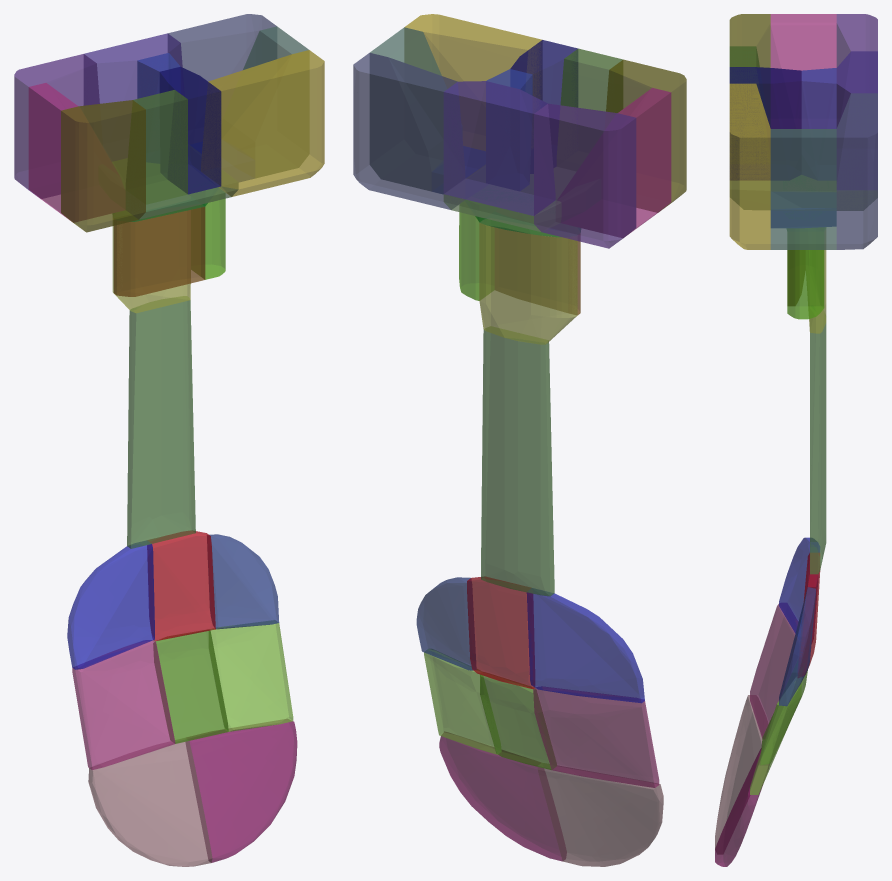
File: holder_spoon_flat.obj
3 renders of one model, left to right at view 1: azimuth 30°, elevation 25°; view 2: azimuth 150°, elevation 25°; view 3: azimuth 270°, elevation 25°, orthographic. The views are drawn at different scales.
Parts seen in each view (by area): view 1: Shape_IndexedFaceSet_Shape_IndexedFaceSet.065, Shape_IndexedFaceSet.008_Shape_IndexedFaceSet.073, Shape_IndexedFaceSet.002_Shape_IndexedFaceSet.067, Shape_IndexedFaceSet.003_Shape_IndexedFaceSet.068, Shape_IndexedFaceSet.023_Shape_IndexedFaceSet.088, Shape_IndexedFaceSet.004_Shape_IndexedFaceSet.069, Shape_IndexedFaceSet.017_Shape_IndexedFaceSet.082, Shape_IndexedFaceSet.024_Shape_IndexedFaceSet.089, Shape_IndexedFaceSet.009_Shape_IndexedFaceSet.074, Shape_IndexedFaceSet.010_Shape_IndexedFaceSet.075, Shape_IndexedFaceSet.012_Shape_IndexedFaceSet.077, Shape_IndexedFaceSet.022_Shape_IndexedFaceSet.087 (+11 smaller); view 2: Shape_IndexedFaceSet_Shape_IndexedFaceSet.065, Shape_IndexedFaceSet.022_Shape_IndexedFaceSet.087, Shape_IndexedFaceSet.010_Shape_IndexedFaceSet.075, Shape_IndexedFaceSet.019_Shape_IndexedFaceSet.084, Shape_IndexedFaceSet.005_Shape_IndexedFaceSet.070, Shape_IndexedFaceSet.017_Shape_IndexedFaceSet.082, Shape_IndexedFaceSet.024_Shape_IndexedFaceSet.089, Shape_IndexedFaceSet.004_Shape_IndexedFaceSet.069, Shape_IndexedFaceSet.002_Shape_IndexedFaceSet.067, Shape_IndexedFaceSet.009_Shape_IndexedFaceSet.074, Shape_IndexedFaceSet.008_Shape_IndexedFaceSet.073, Shape_IndexedFaceSet.003_Shape_IndexedFaceSet.068 (+12 smaller); view 3: Shape_IndexedFaceSet.017_Shape_IndexedFaceSet.082, Shape_IndexedFaceSet.024_Shape_IndexedFaceSet.089, Shape_IndexedFaceSet.007_Shape_IndexedFaceSet.072, Shape_IndexedFaceSet.008_Shape_IndexedFaceSet.073, Shape_IndexedFaceSet.022_Shape_IndexedFaceSet.087, Shape_IndexedFaceSet.019_Shape_IndexedFaceSet.084, Shape_IndexedFaceSet_Shape_IndexedFaceSet.065, Shape_IndexedFaceSet.006_Shape_IndexedFaceSet.071, Shape_IndexedFaceSet.002_Shape_IndexedFaceSet.067, Shape_IndexedFaceSet.004_Shape_IndexedFaceSet.069, Shape_IndexedFaceSet.010_Shape_IndexedFaceSet.075, Shape_IndexedFaceSet.021_Shape_IndexedFaceSet.086 (+12 smaller).
Boxes of the visible parts, left/top/right/bottom form: Shape_IndexedFaceSet_Shape_IndexedFaceSet.065: left=127, top=296, right=195, bottom=548; Shape_IndexedFaceSet.008_Shape_IndexedFaceSet.073: left=201, top=50, right=324, bottom=196; Shape_IndexedFaceSet.002_Shape_IndexedFaceSet.067: left=88, top=738, right=212, bottom=866; Shape_IndexedFaceSet.003_Shape_IndexedFaceSet.068: left=186, top=719, right=297, bottom=862; Shape_IndexedFaceSet.023_Shape_IndexedFaceSet.088: left=61, top=100, right=145, bottom=232; Shape_IndexedFaceSet.004_Shape_IndexedFaceSet.069: left=72, top=640, right=175, bottom=770; Shape_IndexedFaceSet.017_Shape_IndexedFaceSet.082: left=222, top=26, right=308, bottom=177; Shape_IndexedFaceSet.024_Shape_IndexedFaceSet.089: left=28, top=83, right=124, bottom=222; Shape_IndexedFaceSet.009_Shape_IndexedFaceSet.074: left=67, top=541, right=154, bottom=669; Shape_IndexedFaceSet.010_Shape_IndexedFaceSet.075: left=14, top=54, right=99, bottom=198; Shape_IndexedFaceSet.012_Shape_IndexedFaceSet.077: left=209, top=620, right=293, bottom=731; Shape_IndexedFaceSet.022_Shape_IndexedFaceSet.087: left=168, top=14, right=276, bottom=143; Shape_IndexedFaceSet_Shape_IndexedFaceSet.065: left=481, top=327, right=554, bottom=596; Shape_IndexedFaceSet.022_Shape_IndexedFaceSet.087: left=353, top=52, right=464, bottom=209; Shape_IndexedFaceSet.010_Shape_IndexedFaceSet.075: left=534, top=103, right=636, bottom=248; Shape_IndexedFaceSet.019_Shape_IndexedFaceSet.084: left=443, top=81, right=555, bottom=215; Shape_IndexedFaceSet.005_Shape_IndexedFaceSet.070: left=479, top=219, right=577, bottom=344; Shape_IndexedFaceSet.017_Shape_IndexedFaceSet.082: left=370, top=27, right=446, bottom=190; Shape_IndexedFaceSet.024_Shape_IndexedFaceSet.089: left=559, top=88, right=671, bottom=237; Shape_IndexedFaceSet.004_Shape_IndexedFaceSet.069: left=533, top=686, right=659, bottom=787; Shape_IndexedFaceSet.002_Shape_IndexedFaceSet.067: left=537, top=763, right=663, bottom=866; Shape_IndexedFaceSet.009_Shape_IndexedFaceSet.074: left=526, top=588, right=644, bottom=703; Shape_IndexedFaceSet.008_Shape_IndexedFaceSet.073: left=404, top=14, right=541, bottom=150; Shape_IndexedFaceSet.003_Shape_IndexedFaceSet.068: left=439, top=732, right=566, bottom=861; Shape_IndexedFaceSet.017_Shape_IndexedFaceSet.082: left=770, top=129, right=836, bottom=249; Shape_IndexedFaceSet.024_Shape_IndexedFaceSet.089: left=770, top=14, right=836, bottom=128; Shape_IndexedFaceSet.007_Shape_IndexedFaceSet.072: left=729, top=67, right=801, bottom=180; Shape_IndexedFaceSet.008_Shape_IndexedFaceSet.073: left=729, top=83, right=770, bottom=249; Shape_IndexedFaceSet.022_Shape_IndexedFaceSet.087: left=836, top=93, right=877, bottom=249; Shape_IndexedFaceSet.019_Shape_IndexedFaceSet.084: left=836, top=51, right=877, bottom=189; Shape_IndexedFaceSet_Shape_IndexedFaceSet.065: left=810, top=310, right=826, bottom=574; Shape_IndexedFaceSet.006_Shape_IndexedFaceSet.071: left=801, top=68, right=836, bottom=179; Shape_IndexedFaceSet.002_Shape_IndexedFaceSet.067: left=715, top=695, right=767, bottom=853; Shape_IndexedFaceSet.004_Shape_IndexedFaceSet.069: left=750, top=603, right=799, bottom=738; Shape_IndexedFaceSet.010_Shape_IndexedFaceSet.075: left=836, top=14, right=877, bottom=125; Shape_IndexedFaceSet.021_Shape_IndexedFaceSet.086: left=787, top=232, right=824, bottom=319.
Size of the model in its own units: 0.0804 by 0.2361 by 0.0447.
